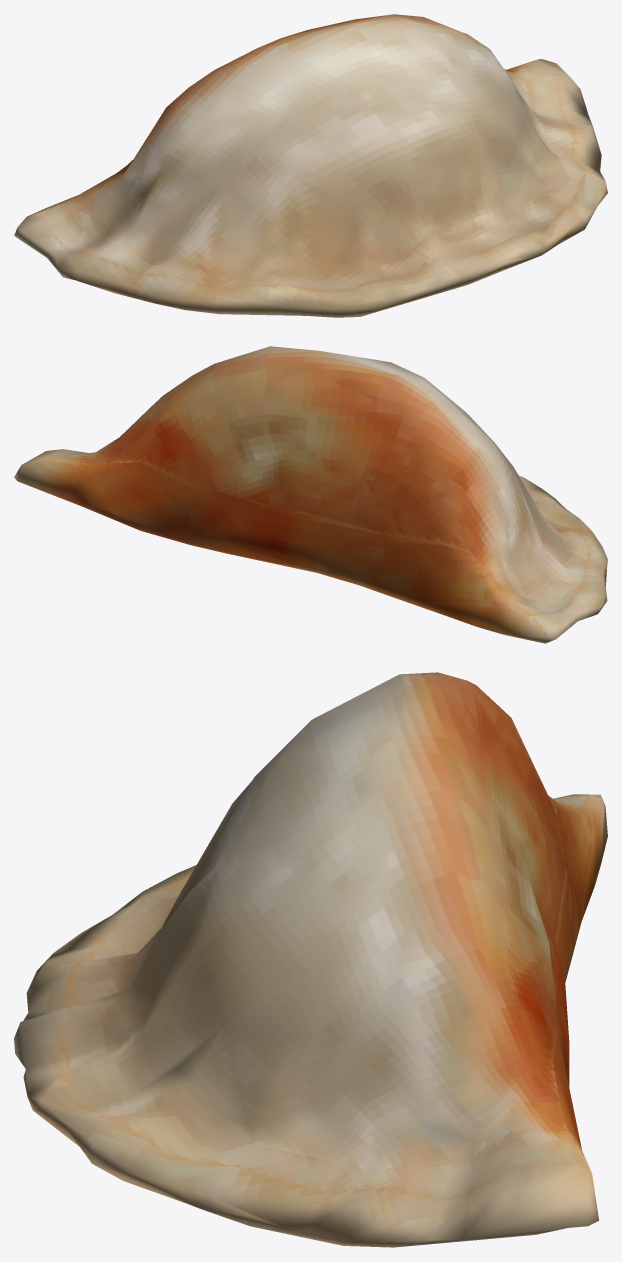
Rendered from ref_frieddumpling.glb.
The picture shows the model from 3 angles, top to bottom: view 1: azimuth 30°, elevation 25°; view 2: azimuth 150°, elevation 25°; view 3: azimuth 270°, elevation 25°; orthographic projection. The views are drawn at different scales.
Visible parts, largest first — view 1: ref_frieddumpling; view 2: ref_frieddumpling; view 3: ref_frieddumpling.
Boxes of the visible parts, x1,y1,x2,y2 form: ref_frieddumpling: (14, 14, 607, 317); ref_frieddumpling: (14, 346, 607, 643); ref_frieddumpling: (14, 672, 607, 1247).
Bounding box in the file's own units: 1 × 0.356 × 0.5324.
Materials: 1 (1 with a texture image).
